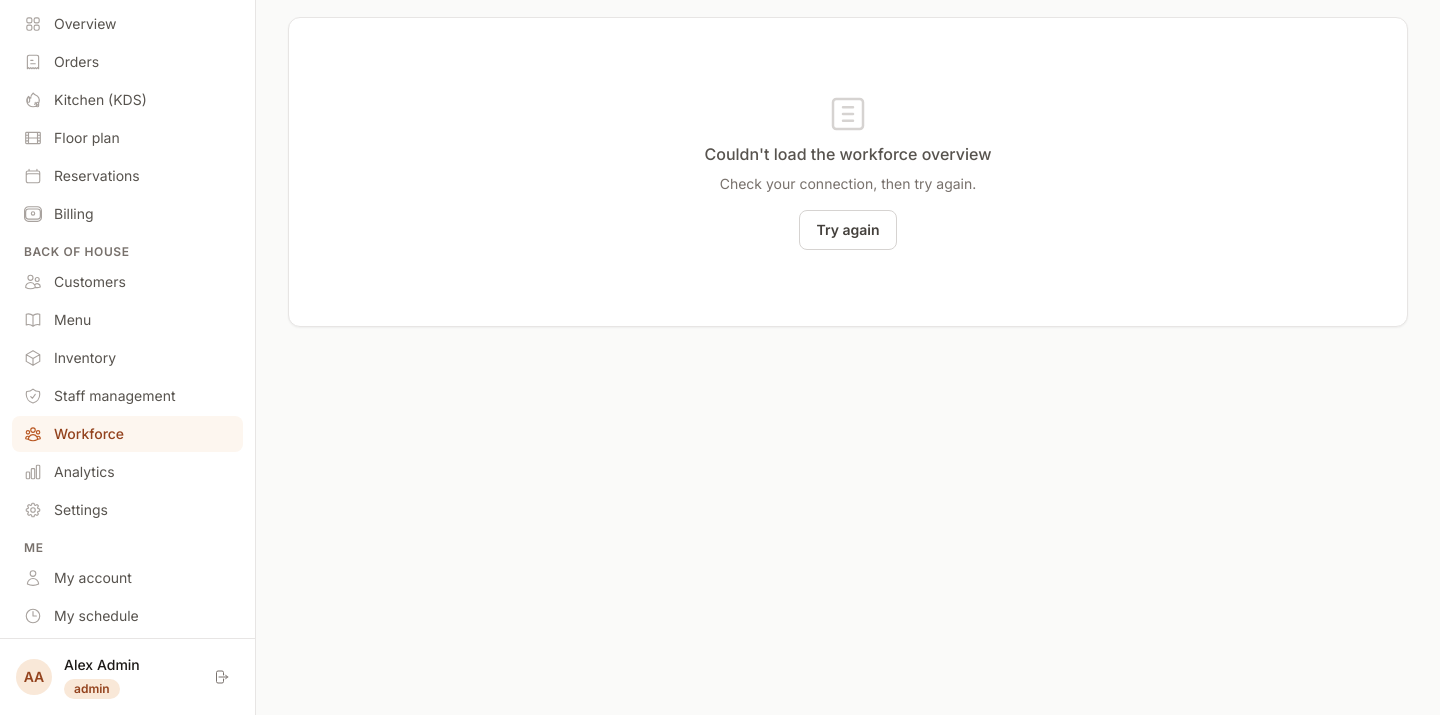
Scenario: WorkforcePage › offers Try again instead of spinning forever when the overview fails
Expected: the text "Couldn't load the workforce overview" is shown, [705,142,992,166]
Click the button "Try again" at (848, 230), box [800,210,897,250]
(page scrolled)
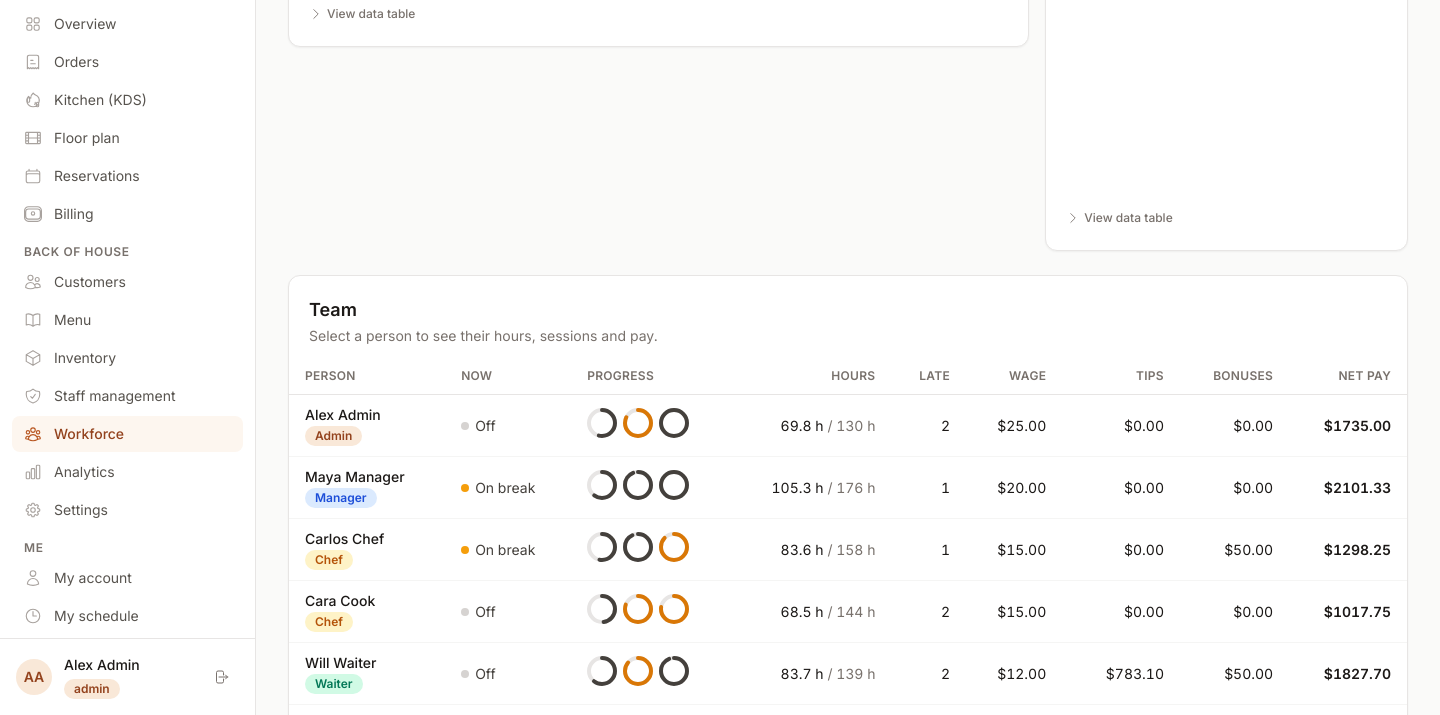
Now the heading "Team" is shown, box [309,299,357,320]
